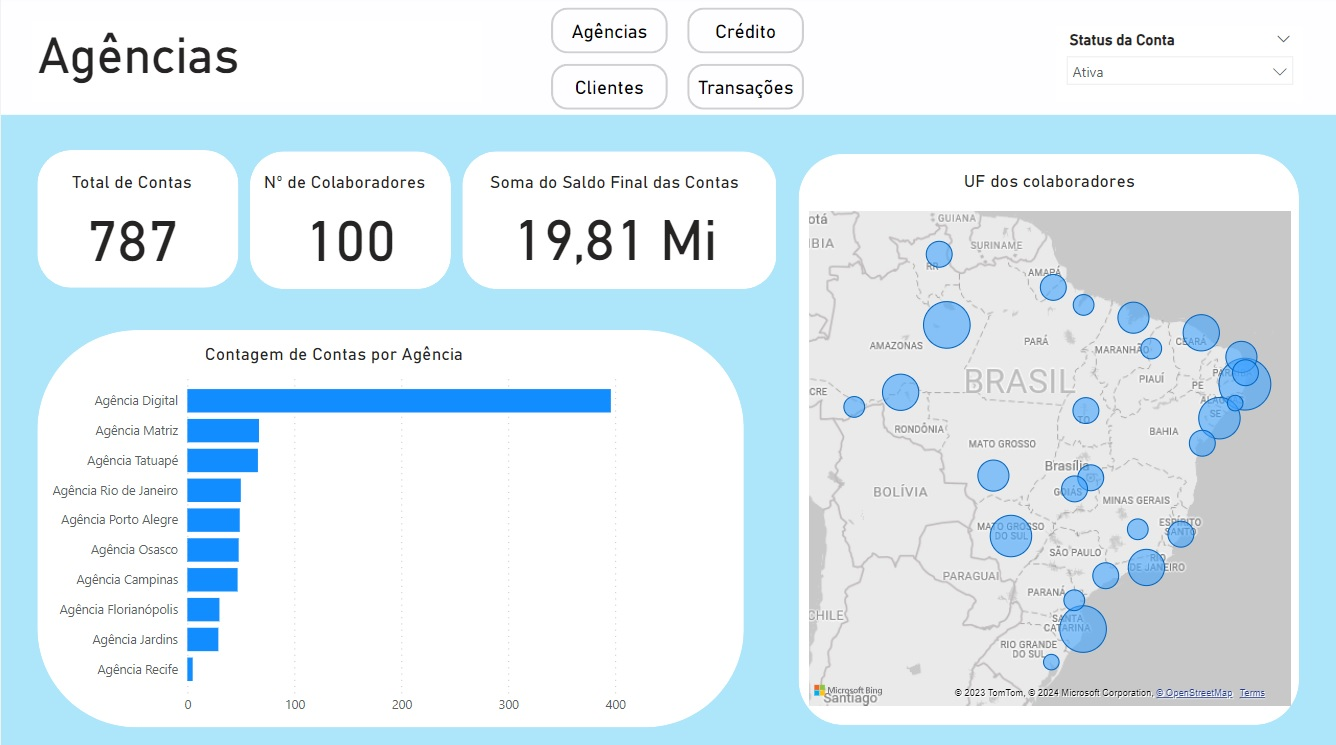

Layout of this report page (visuals, bound fields, positions):
{"tool":"powerbi","page":{"name":"Agências","canvas":[1280,720],"ordinal":0},"visuals":[{"type":"shape","box":[30.9,310.6,1216.3,380.4],"z":0},{"type":"shape","box":[885.4,142.8,364.2,132.1],"z":1000},{"type":"shape","box":[460.3,142.8,364.2,132.1],"z":2000},{"type":"shape","box":[27.4,142.8,364.2,132.1],"z":3000},{"type":"card","fields":{"Values":["agencias_medidas.Contagem de Contas por Agência"]},"box":[54.5,197.8,299.9,67.8],"z":4000},{"type":"card","fields":{"Values":["agencias_medidas.Contagem de Valores das contas por Agência"]},"box":[946.6,196.6,257.1,65.5],"z":5000},{"type":"slicer","fields":{"Values":["contas.inatividade"]},"box":[1011.6,19,236.8,73.8],"z":6000},{"type":"card","fields":{"Values":["agencias_medidas.Contagem de Colaboradores por Agência"]},"box":[494.6,194.7,291.6,67.8],"z":7000},{"type":"clusteredBarChart","title":"Contagem de Contas por Agência","fields":{"Category":["agencias.nome"],"Y":["agencias_medidas.Contagem de Contas por Agência"]},"box":[41.4,323.5,1144.9,364.2],"z":8000},{"type":"textbox","box":[490.1,155.2,299.9,35.7],"z":9000},{"type":"textbox","box":[56.2,153.8,299.9,35.7],"z":10000},{"type":"textbox","box":[912.1,154,299.9,35.7],"z":11000},{"type":"textbox","box":[41.7,8.3,299.9,84.5],"z":12000}]}

Visuals, with their boxes in screenshot pixels (x1, y1, x2, y2), scaled from the page's 1280x720 canvas onto the 1336x745 screenshot:
shape: bbox=(32, 321, 1302, 715)
shape: bbox=(924, 148, 1304, 284)
shape: bbox=(480, 148, 861, 284)
shape: bbox=(29, 148, 409, 284)
card - agencias_medidas.Contagem de Contas por Agência: bbox=(57, 205, 370, 275)
card - agencias_medidas.Contagem de Valores das contas por Agência: bbox=(988, 203, 1256, 271)
slicer - contas.inatividade: bbox=(1056, 20, 1303, 96)
card - agencias_medidas.Contagem de Colaboradores por Agência: bbox=(516, 201, 821, 272)
"Contagem de Contas por Agência" clusteredBarChart: bbox=(43, 335, 1238, 712)
textbox: bbox=(512, 161, 825, 198)
textbox: bbox=(59, 159, 372, 196)
textbox: bbox=(952, 159, 1265, 196)
textbox: bbox=(44, 9, 357, 96)
